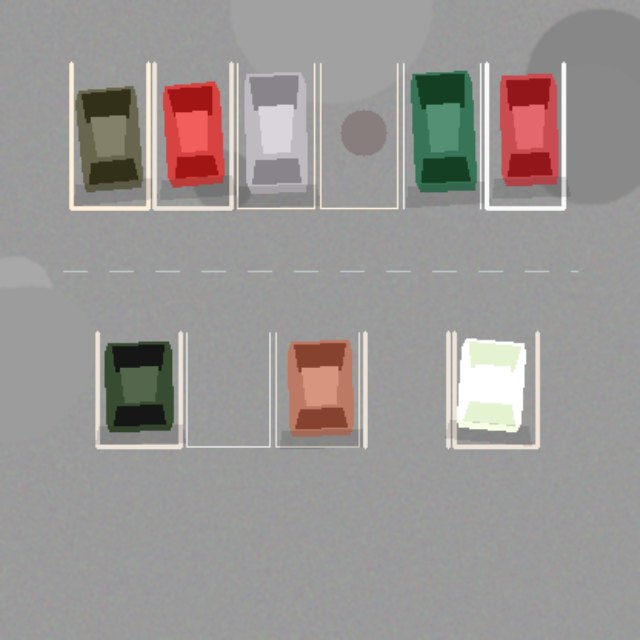space-empty: (320, 63, 397, 208), (186, 332, 269, 446), (365, 332, 448, 446)
space-occupied: (71, 63, 148, 208), (154, 63, 231, 208), (237, 63, 314, 208), (403, 63, 480, 208), (486, 63, 563, 208), (97, 332, 180, 446), (275, 332, 358, 446), (454, 332, 537, 446)
